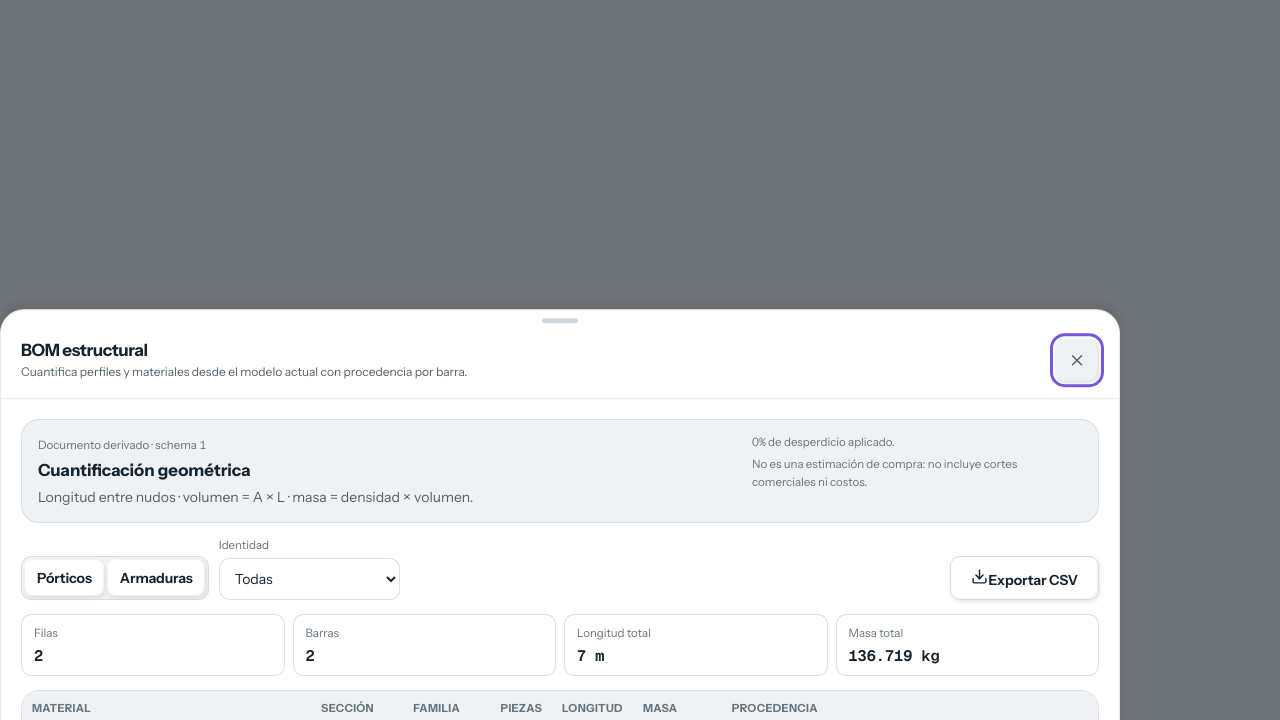
it: StructuralBomPanel › filters member family and identity while preserving stable aggregate rows
The image size is (1280, 720).
(page scrolled)
Click the button "Armaduras": {"x": 156, "y": 578} [108, 560, 205, 596]
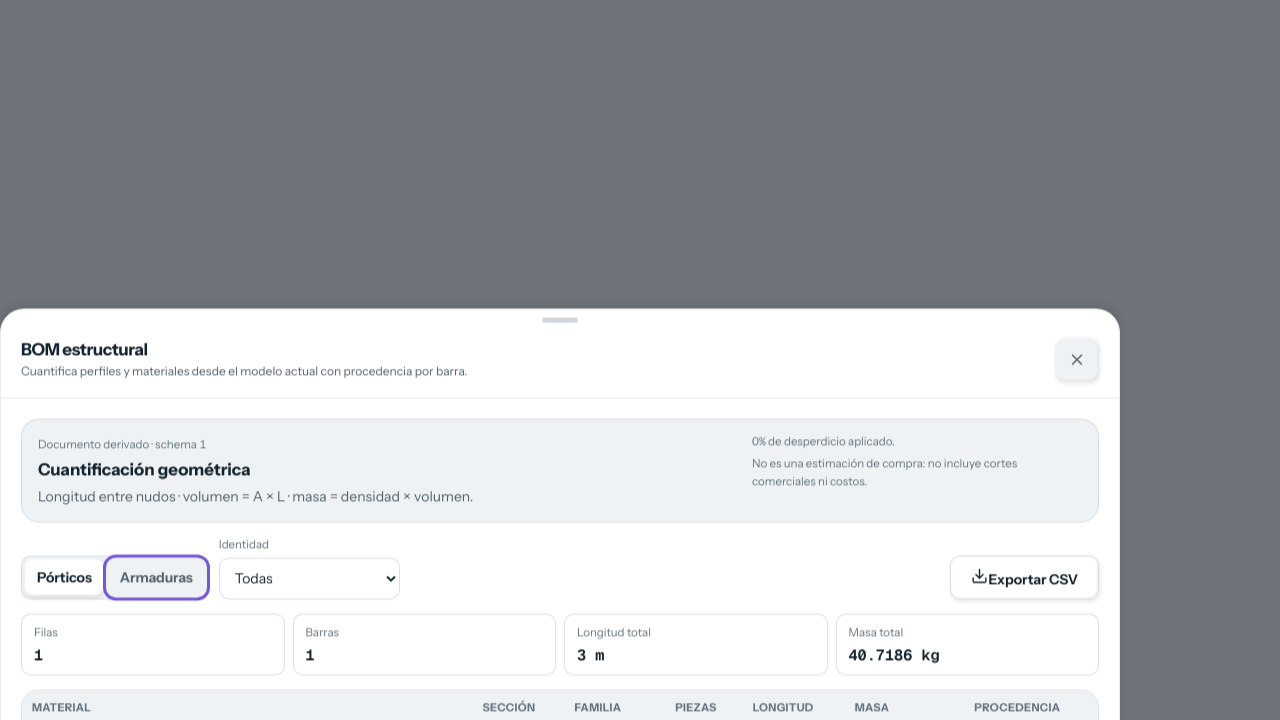
Now the element with test id "structural-bom" has attribute data-row-count="1", box [21, 419, 1099, 719]
Select "Sin resolver" in the dropdown labelled "Identidad": {"x": 309, "y": 580} [219, 558, 400, 600]
(page scrolled)
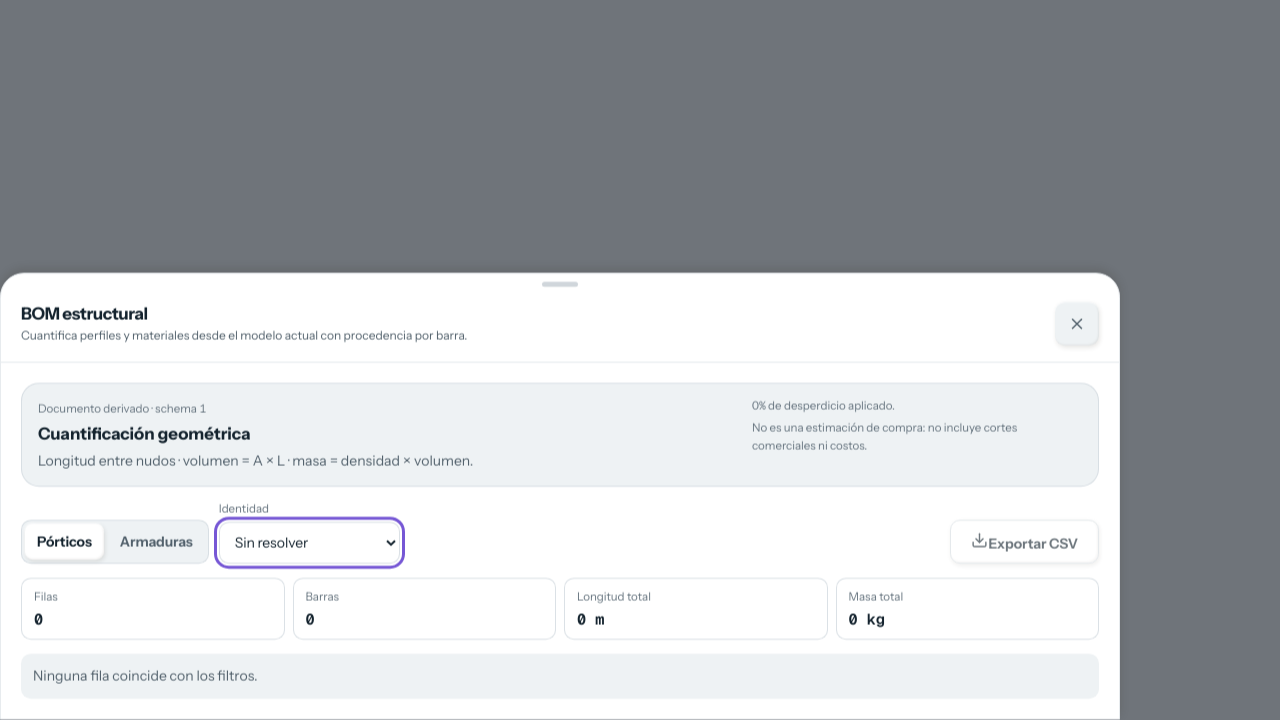
Now the text "Ninguna fila coincide con los filtros." is shown, box [21, 654, 1099, 699]
